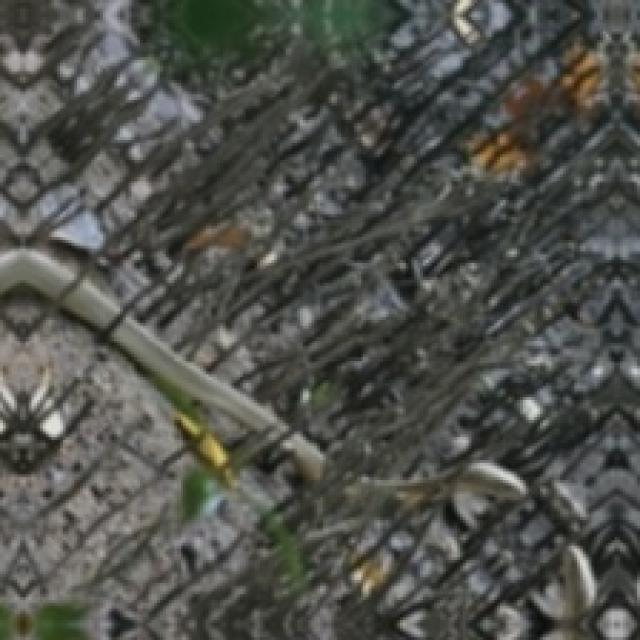king cobra: (0, 252, 325, 482), (358, 460, 528, 506)
